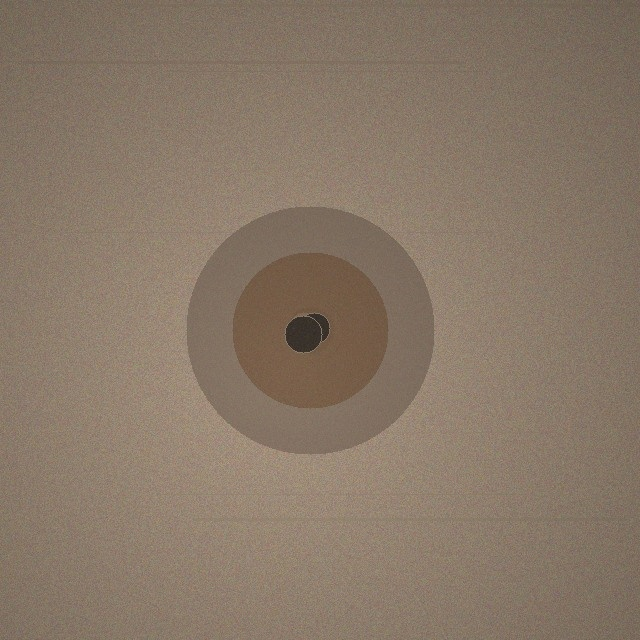shrinkage: (186, 206, 434, 454)
